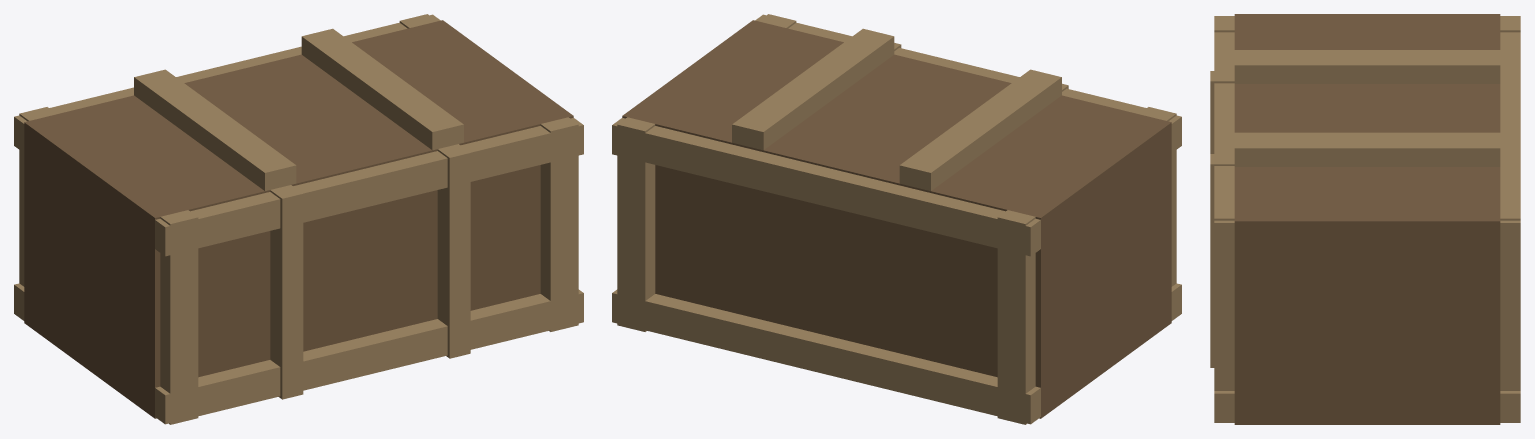
Rendered from TW_CRATE_LONG_A_LOD0.glb.
The picture shows the model from 3 angles, left to right: view 1: azimuth 30°, elevation 25°; view 2: azimuth 150°, elevation 25°; view 3: azimuth 270°, elevation 25°; orthographic projection.
Visible parts, largest first — view 1: TW_CRATE_LONG_A_LOD0; view 2: TW_CRATE_LONG_A_LOD0; view 3: TW_CRATE_LONG_A_LOD0.
Part boxes in pixels (left/top/right/bottom): TW_CRATE_LONG_A_LOD0: left=14, top=14, right=583, bottom=424; TW_CRATE_LONG_A_LOD0: left=612, top=14, right=1181, bottom=424; TW_CRATE_LONG_A_LOD0: left=1210, top=14, right=1520, bottom=424.
Size of the model in its own units: 1.2 by 0.6 by 0.76.
1 material, 1 textured.
